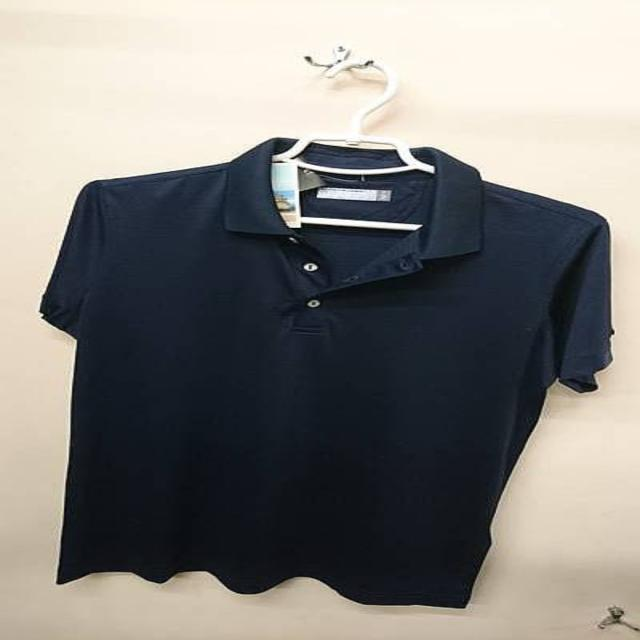T_SHIRT: (25, 131, 624, 613)
